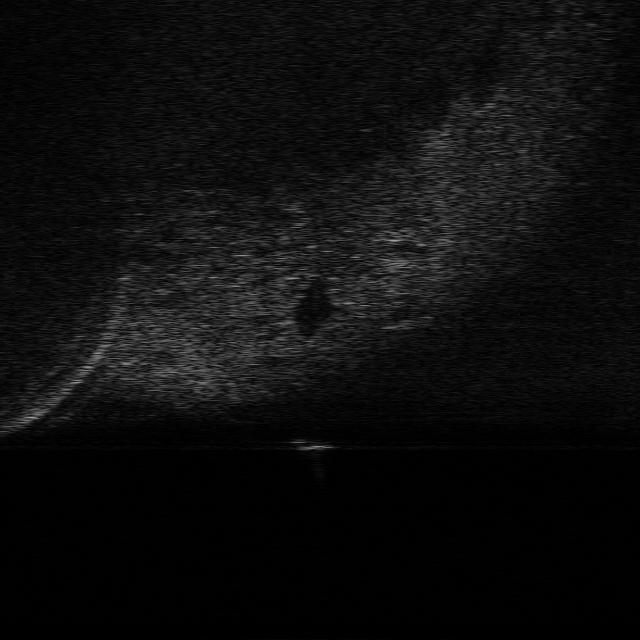cube: (285, 436, 343, 454)
